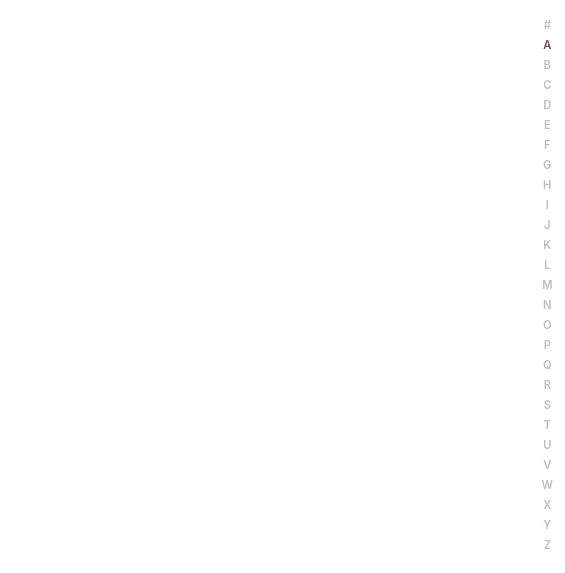
AlphabetIndex › shows the letter under the pointer even when it has no items
Press the mouse on the navigation bar with class "alphabet-index__strip": (547, 286) 534,16 -> 561,556
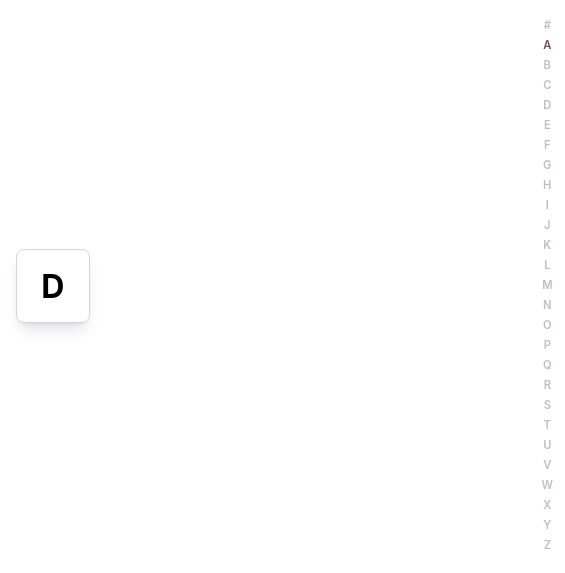
Check: the text with class "alphabet-index__bubble" reads "D", box 41,266 -> 65,306
